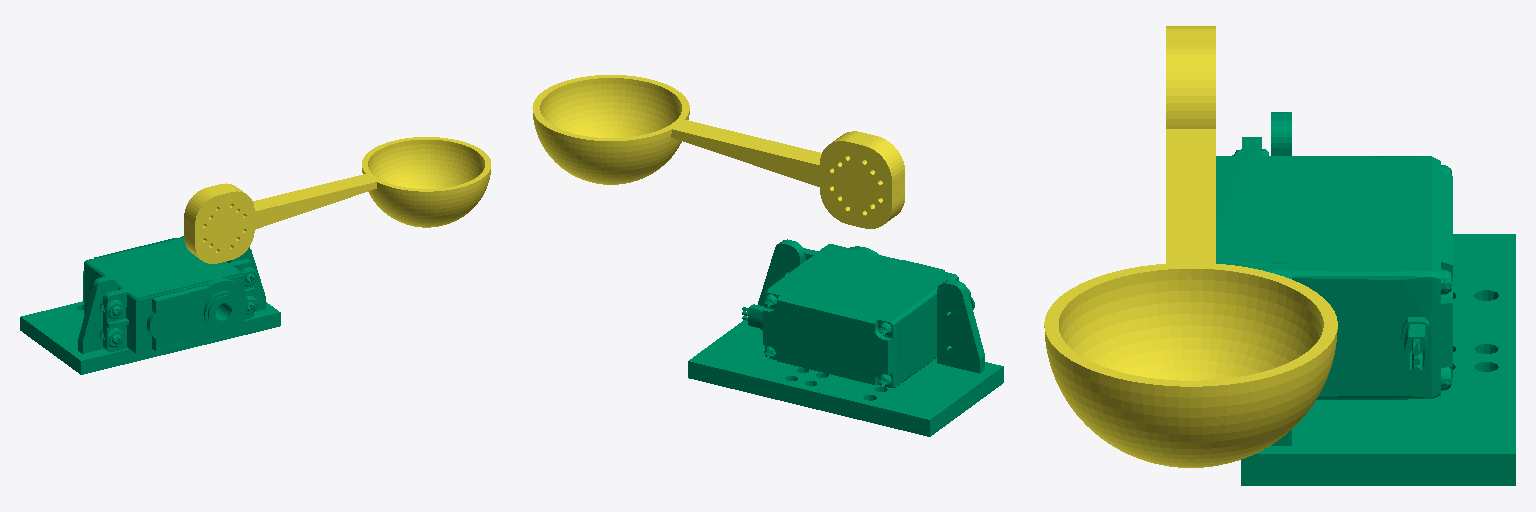
URDF robot description (turtlebot3_burger):
<?xml version="1.0"?>
<!-- =================================================================================== -->
<!-- |    This document was autogenerated by xacro from turtlebot3_burger.urdf         | -->
<!-- |    EDITING THIS FILE BY HAND IS NOT RECOMMENDED                                 | -->
<!-- =================================================================================== -->
<robot name="turtlebot3_burger">
  <!-- <xacro:include filename="$(find catapaf_description)/urdf/common_properties.urdf"/> -->
  <!-- Init colour -->
  <material name="black">
    <color rgba="0.0 0.0 0.0 1.0" />
  </material>
  <material name="dark">
    <color rgba="0.3 0.3 0.3 1.0" />
  </material>
  <material name="light_black">
    <color rgba="0.4 0.4 0.4 1.0" />
  </material>
  <material name="blue">
    <color rgba="0.0 0.0 0.8 1.0" />
  </material>
  <material name="green">
    <color rgba="0.0 0.8 0.0 1.0" />
  </material>
  <material name="grey">
    <color rgba="0.5 0.5 0.5 1.0" />
  </material>
  <material name="orange">
    <color rgba="1.0 0.4235 0.0392 1.0" />
  </material>
  <material name="brown">
    <color rgba="0.8706 0.8118 0.7647 1.0" />
  </material>
  <material name="red">
    <color rgba="0.8 0.0 0.0 1.0" />
  </material>
  <material name="white">
    <color rgba="1.0 1.0 1.0 1.0" />
  </material>
  <link name="base_footprint" />
  <joint name="base_joint" type="fixed">
    <parent link="base_footprint" />
    <child link="base_link" />
    <origin rpy="0 0 0" xyz="0.0 0.0 0.010" />
  </joint>
  <link name="base_link">
    <visual>
      <origin rpy="0 0 0" xyz="-0.032 0 0.0" />
      <geometry>
        <mesh filename="package://catapaf_description/meshes/bases/burger_base.stl"
          scale="0.001 0.001 0.001" />
      </geometry>
      <material name="light_black" />
    </visual>
    <collision>
      <origin rpy="0 0 0" xyz="-0.032 0 0.070" />
      <geometry>
        <box size="0.140 0.140 0.143" />
      </geometry>
    </collision>
    <inertial>
      <origin rpy="0 0 0" xyz="-0.033 0 0.07" />
      <mass value="8.2573504e-01" />
      <inertia ixx="2.2124416e-03" ixy="0.0" ixz="0.0" iyy="2.1193702e-03" iyz="0.0"
        izz="2.0064271e-03" />
    </inertial>
  </link>
  <joint name="wheel_left_joint" type="continuous">
    <parent link="base_link" />
    <child link="wheel_left_link" />
    <origin rpy="-1.57 0 0" xyz="0.0 0.08 0.023" />
    <axis xyz="0 0 1" />
  </joint>
  <link name="wheel_left_link">
    <visual>
      <origin rpy="1.57 0 0" xyz="0 0 0" />
      <geometry>
        <mesh filename="package://catapaf_description/meshes/wheels/left_tire.stl"
          scale="0.001 0.001 0.001" />
      </geometry>
      <material name="dark" />
    </visual>
    <collision>
      <origin rpy="0 0 0" xyz="0 0 0" />
      <geometry>
        <cylinder length="0.018" radius="0.033" />
      </geometry>
    </collision>
    <inertial>
      <origin xyz="0 0 0" />
      <mass value="2.8498940e-02" />
      <inertia ixx="1.1175580e-05" ixy="0.0" ixz="0.0" iyy="1.1192413e-05" iyz="0.0"
        izz="2.0712558e-05" />
    </inertial>
  </link>
  <joint name="wheel_right_joint" type="continuous">
    <parent link="base_link" />
    <child link="wheel_right_link" />
    <origin rpy="-1.57 0 0" xyz="0.0 -0.080 0.023" />
    <axis xyz="0 0 1" />
  </joint>
  <link name="wheel_right_link">
    <visual>
      <origin rpy="1.57 0 0" xyz="0 0 0" />
      <geometry>
        <mesh filename="package://catapaf_description/meshes/wheels/right_tire.stl"
          scale="0.001 0.001 0.001" />
      </geometry>
      <material name="dark" />
    </visual>
    <collision>
      <origin rpy="0 0 0" xyz="0 0 0" />
      <geometry>
        <cylinder length="0.018" radius="0.033" />
      </geometry>
    </collision>
    <inertial>
      <origin xyz="0 0 0" />
      <mass value="2.8498940e-02" />
      <inertia ixx="1.1175580e-05" ixy="0.0" ixz="0.0" iyy="1.1192413e-05" iyz="0.0"
        izz="2.0712558e-05" />
    </inertial>
  </link>
  <joint name="caster_back_joint" type="fixed">
    <parent link="base_link" />
    <child link="caster_back_link" />
    <origin rpy="-1.57 0 0" xyz="-0.081 0 -0.004" />
  </joint>
  <link name="caster_back_link">
    <collision>
      <origin rpy="0 0 0" xyz="0 0.001 0" />
      <geometry>
        <box size="0.030 0.009 0.020" />
      </geometry>
    </collision>
    <inertial>
      <origin xyz="0 0 0" />
      <mass value="0.005" />
      <inertia ixx="1.0e-07" ixy="0.0" ixz="0.0" iyy="1.0e-07" iyz="0.0" izz="1.0e-07" />
    </inertial>
  </link>
  <joint name="imu_joint" type="fixed">
    <parent link="base_link" />
    <child link="imu_link" />
    <origin rpy="0 0 0" xyz="-0.032 0 0.068" />
  </joint>
  <link name="imu_link" />
  <joint name="scan_joint" type="fixed">
    <parent link="base_link" />
    <child link="base_scan" />
    <origin rpy="0 0 0" xyz="-0.032 0 0.172" />
  </joint>
  <link name="base_scan">
    <visual>
      <origin rpy="0 0 0" xyz="0 0 0.0" />
      <geometry>
        <mesh filename="package://catapaf_description/meshes/sensors/lds.stl"
          scale="0.001 0.001 0.001" />
      </geometry>
      <material name="dark" />
    </visual>
    <collision>
      <origin rpy="0 0 0" xyz="0.015 0 -0.0065" />
      <geometry>
        <cylinder length="0.0315" radius="0.055" />
      </geometry>
    </collision>
    <inertial>
      <mass value="0.114" />
      <origin xyz="0 0 -0.01" />
      <inertia ixx="47.43e-06" ixy="0.0" ixz="0.0" iyy="79.51e-06" iyz="0.0" izz="102.75e-06" />
    </inertial>
  </link>

  <link name="oak_d_pro_camera">
    <visual name="meshes">
      <origin xyz="0.0 0.0 0.0" rpy="0 0 0" />
      <geometry>
        <mesh filename="package://catapaf_description/meshes/sensors/OAK-D-PRO.stl"
          scale="1.0 1.0 1.0" />
      </geometry>
      <material name="dark" />
    </visual>
    <inertial>
      <origin xyz="0.00099391 -0.00585275 -0.01028175" />
      <mass value="0.09100000" />
      <inertia ixx="0.00000975" ixy="0.0" ixz="0.0" iyy="0.00007087" iyz="0.0" izz="0.00007312" />
    </inertial>
    <collision>
      <origin rpy="0.0 0.0 0.0" xyz="0 -0.005 -0.01" />
      <geometry>
        <box size="0.1 0.03 0.02" />
      </geometry>
    </collision>
  </link>
  <joint name="joint_oak_d_pro_camera" type="fixed">
    <parent link="base_link" />
    <child link="oak_d_pro_camera" />
    <origin xyz="0.065 0.0 0.11" rpy="1.57 0.0 1.57" />
  </joint>

  <link name="oak_d_pro_color_optical_frame" />
  <joint name="joint_oak_d_pro_color_optical_frame" type="fixed">
    <parent link="oak_d_pro_camera" />
    <child link="oak_d_pro_color_optical_frame" />
    <origin xyz="0.0 0.0 0.0" rpy="-1.5708 0.0 -1.5708" />
  </joint>

  <link name="oak_d_pro_depth_optical_frame" />
  <joint name="oak_d_pro_depth_optical_frame" type="fixed">
    <parent link="oak_d_pro_camera" />
    <child link="oak_d_pro_depth_optical_frame" />
    <origin xyz="0.0 0.0 0.0" rpy="-1.5708 0.0 -1.5708" />
  </joint>

  <link name="catapaf_base">
    <visual>
      <origin xyz="0 0 0" rpy="0 0 0" />
      <geometry>
        <mesh filename="package://catapaf_description/meshes/catapaf/baseEtServo.stl"
          scale="1 1 1" />
      </geometry>
    </visual>

    <!-- Collision simple (box) -->
    <collision>
      <origin xyz="0 0 0" rpy="0 0 0" />
      <geometry>
        <box size="0.10 0.08 0.06" /> <!-- à adapter -->
      </geometry>
    </collision>

    <inertial>
      <origin xyz="0 0 0" rpy="0 0 0" />
      <mass value="0.15" />
      <inertia ixx="0.0002" ixy="0" ixz="0"
        iyy="0.0002" iyz="0"
        izz="0.0002" />
    </inertial>
  </link>
  <joint name="catapaf_base_mount" type="fixed">
    <parent link="base_link" />
    <child link="catapaf_base" />
    <origin xyz="0.06 0.0 0.13" rpy="0 0 0" />
  </joint>

  <link name="catapaf_arm">
    <visual>
      <geometry>
        <mesh filename="package://catapaf_description/meshes/catapaf/catapaf.stl"
          scale="1 1 1" />
      </geometry>
    </visual>

    <!-- Collision simplifiée -->
    <collision>
      <geometry>
        <box size="0.12 0.015 0.015" />
      </geometry>
    </collision>

    <inertial>
      <origin xyz="0 0 0" rpy="0 0 0" />
      <mass value="0.05" />
      <inertia ixx="0.00005" ixy="0" ixz="0"
        iyy="0.00005" iyz="0"
        izz="0.00005" />
    </inertial>
  </link>
  <joint name="catapaf_joint" type="revolute">
    <parent link="catapaf_base" />
    <child link="catapaf_arm" />
    <origin xyz="0.0 0.0 0.03" rpy="0 0 0" />  <!-- à ajuster -->
    <axis xyz="0 1 0" />  <!-- rotation autour de Y -->
    <limit lower="-1.5" upper="1.3" velocity="5.0" effort="1.0" />
  </joint>


</robot>

--- Facts derived from the render (not from the file) ---
The picture shows the robot from 3 angles, left to right: view 1: azimuth 30°, elevation 25°; view 2: azimuth 150°, elevation 25°; view 3: azimuth 270°, elevation 25°; orthographic projection.
Robot: turtlebot3_burger — 12 links, 11 joints (1 revolute, 2 continuous, 8 fixed); root link base_footprint; default pose: all joints at 0.
Links seen in each view (by area): view 1: catapaf_base, catapaf_arm; view 2: catapaf_base, catapaf_arm; view 3: catapaf_base, catapaf_arm.
Boxes of the visible links, <box> form: catapaf_base: <box>20,236,280,374</box>; catapaf_arm: <box>184,137,490,263</box>; catapaf_base: <box>688,239,1003,436</box>; catapaf_arm: <box>532,75,904,228</box>; catapaf_base: <box>1216,112,1515,485</box>; catapaf_arm: <box>1044,26,1337,467</box>.
Bounding box of the posed robot: 0.1449 × 0.0669 × 0.0575 m (x, y, z).
2 mesh visuals loaded from 7 distinct referenced files (2 binary STL); not drawn: 5 (reference not matched to a file when rendering).